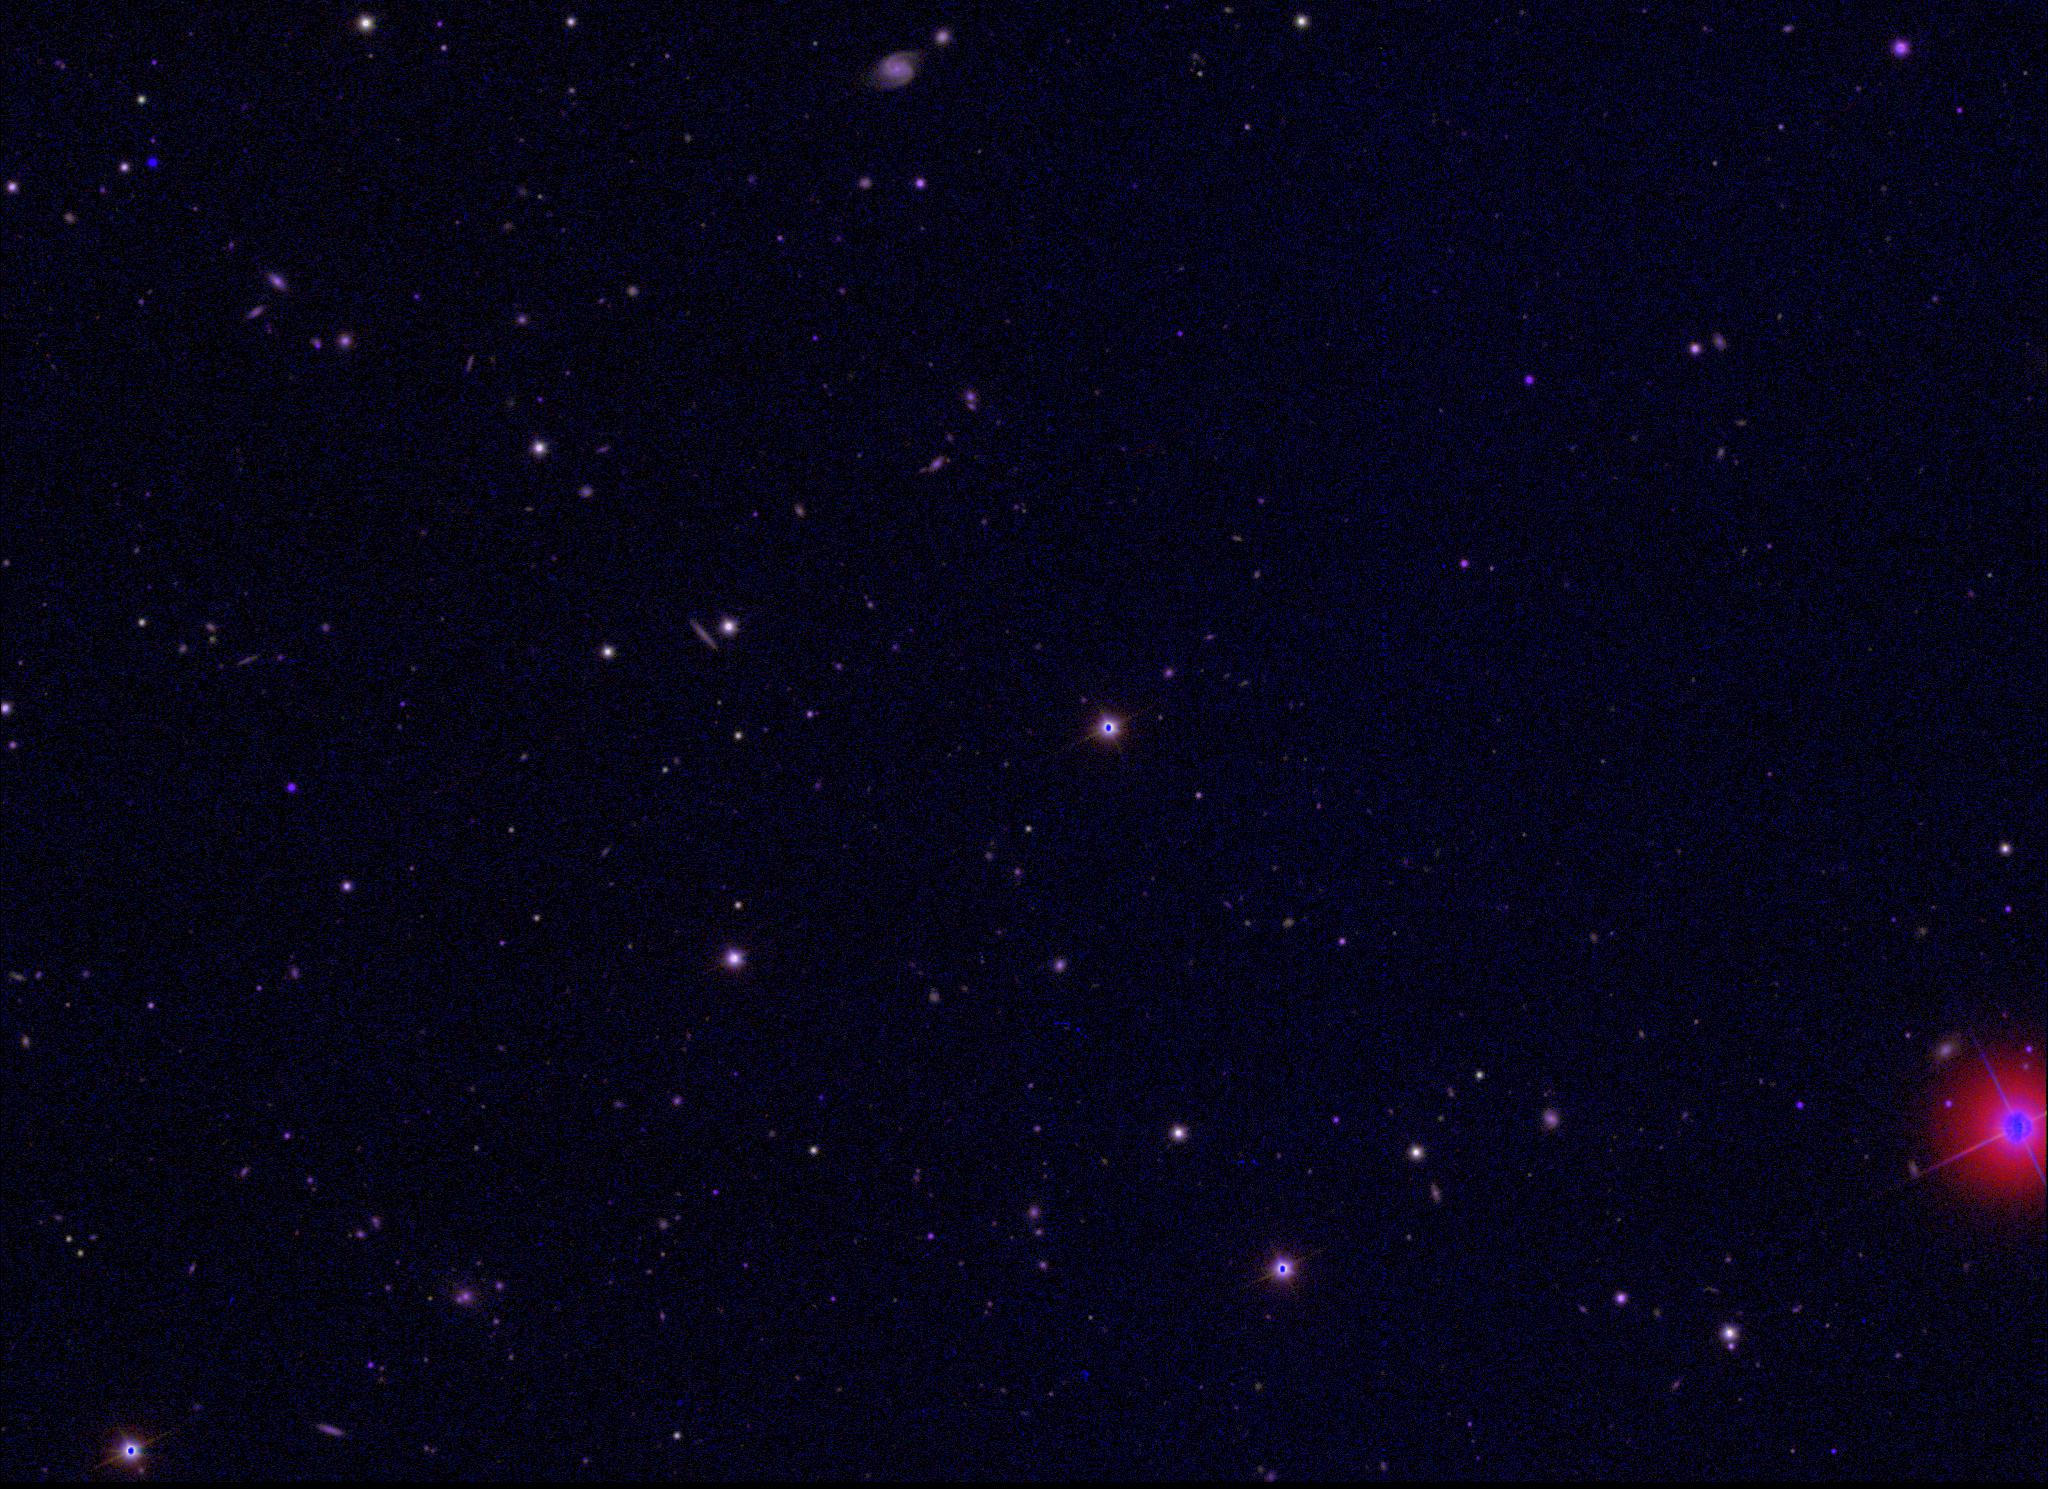L: (146, 159, 161, 173)
